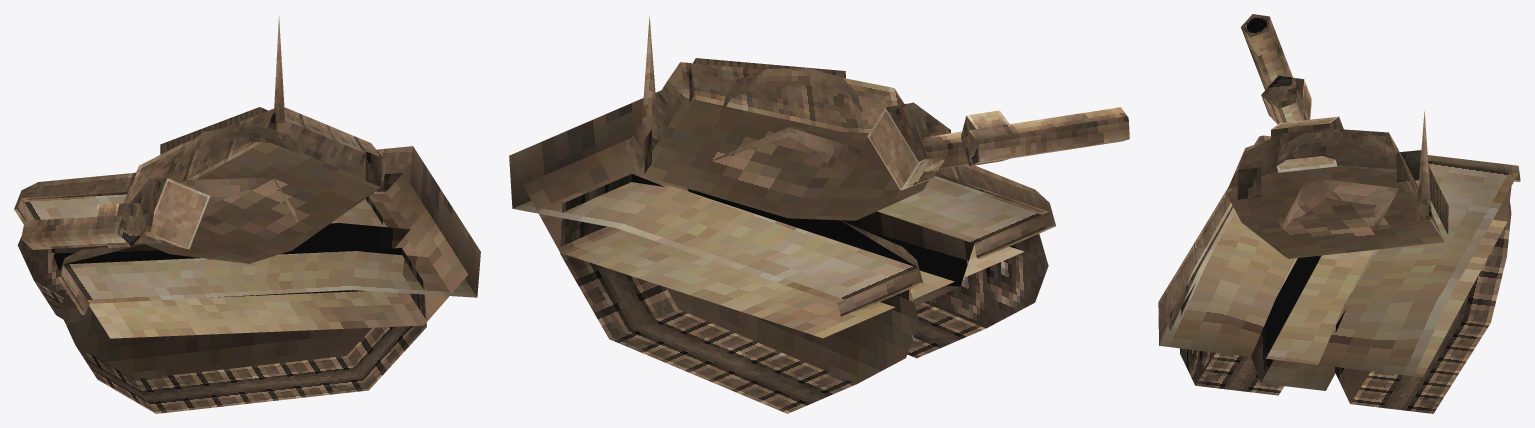
Rendered from ps2_save-icons_battlefield2moderncombat.glb.
The picture shows the model from 3 angles, left to right: view 1: azimuth 30°, elevation 25°; view 2: azimuth 150°, elevation 25°; view 3: azimuth 270°, elevation 25°; orthographic projection. The views are drawn at different scales.
Parts seen in each view (by area): view 1: bf2ps21.ico; view 2: bf2ps21.ico; view 3: bf2ps21.ico.
Boxes of the visible parts, left/top/right/bottom form: bf2ps21.ico: left=14, top=16, right=480, bottom=413; bf2ps21.ico: left=509, top=15, right=1129, bottom=413; bf2ps21.ico: left=1158, top=14, right=1520, bottom=413.
Bounding box in the file's own units: 3.63 × 2.16 × 2.44.
1 material, 1 textured.
